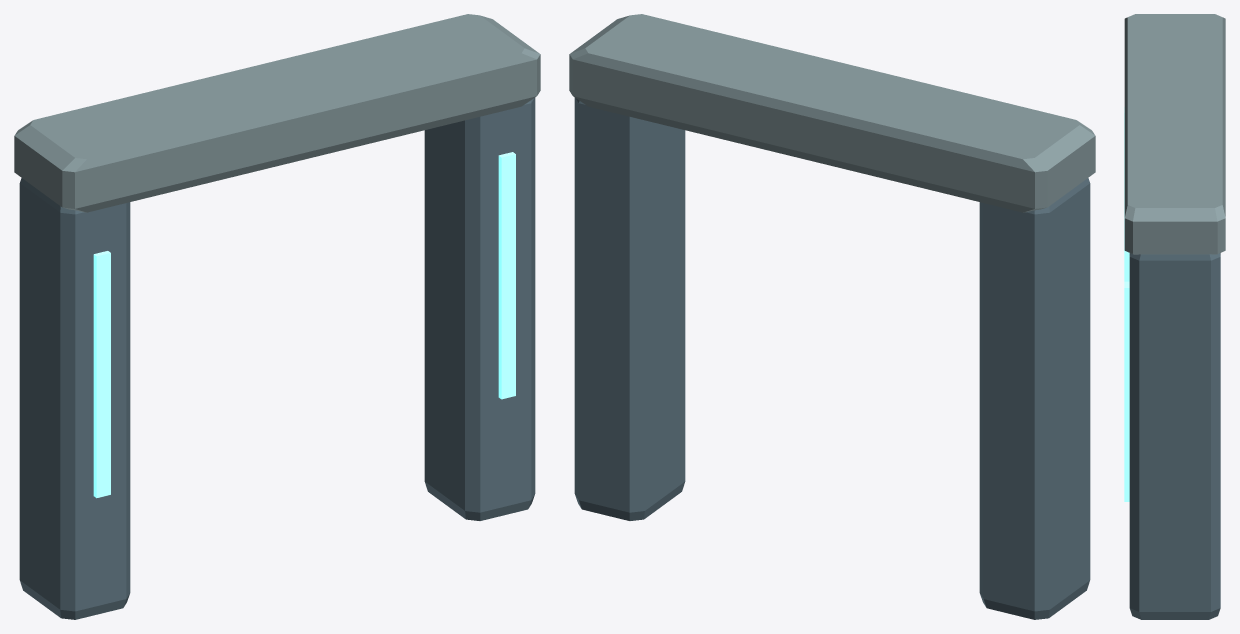
File: SM_ELY_BLD_004_CheckpointGate.glb
3 views of the same model, side by side, from view 1: azimuth 30°, elevation 25°; view 2: azimuth 150°, elevation 25°; view 3: azimuth 270°, elevation 25° (orthographic). The views are drawn at different scales.
Parts seen in each view (by area): view 1: SM_ELY_BLD_004_CheckpointGate; view 2: SM_ELY_BLD_004_CheckpointGate; view 3: SM_ELY_BLD_004_CheckpointGate.
Boxes of the visible parts, left/top/right/bottom form: SM_ELY_BLD_004_CheckpointGate: left=14, top=14, right=540, bottom=619; SM_ELY_BLD_004_CheckpointGate: left=569, top=14, right=1095, bottom=619; SM_ELY_BLD_004_CheckpointGate: left=1124, top=14, right=1225, bottom=619.
Size of the model in its own units: 3 by 2.76 by 0.6225.
